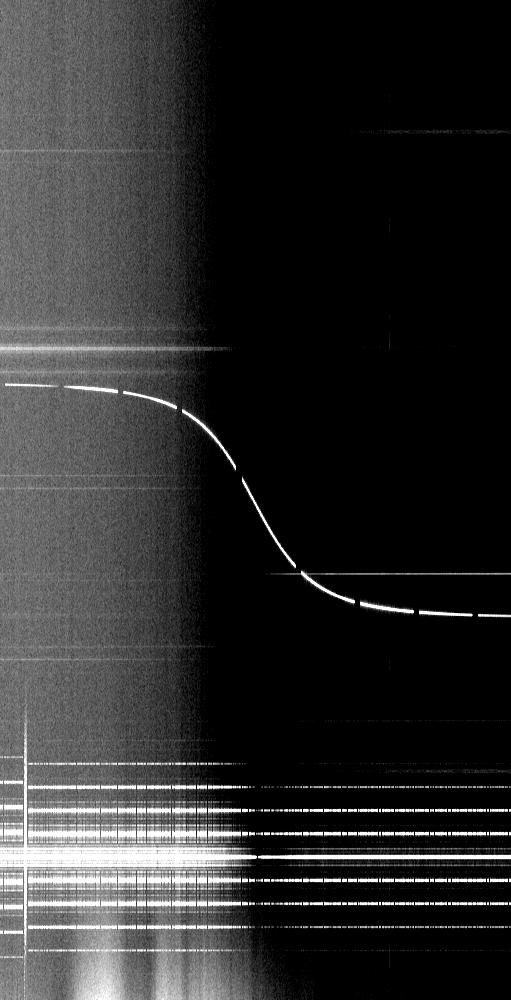signal: (0, 0, 510, 999)
